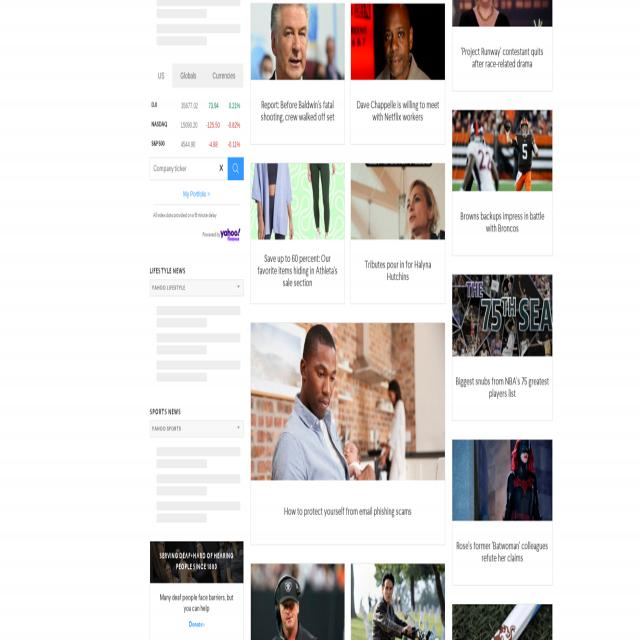button: (251, 323, 445, 544), (452, 440, 552, 587), (452, 110, 552, 256), (452, 275, 552, 421), (351, 4, 445, 146), (351, 163, 445, 304), (251, 3, 344, 144), (251, 163, 344, 304), (150, 541, 243, 640), (452, 0, 552, 92), (350, 561, 445, 640), (250, 563, 344, 640), (452, 604, 553, 640), (204, 63, 243, 88), (172, 63, 205, 88), (150, 63, 172, 88), (228, 158, 244, 180), (220, 229, 240, 241), (219, 161, 225, 175)
field: (150, 157, 227, 181), (150, 420, 243, 438), (150, 280, 243, 296)
